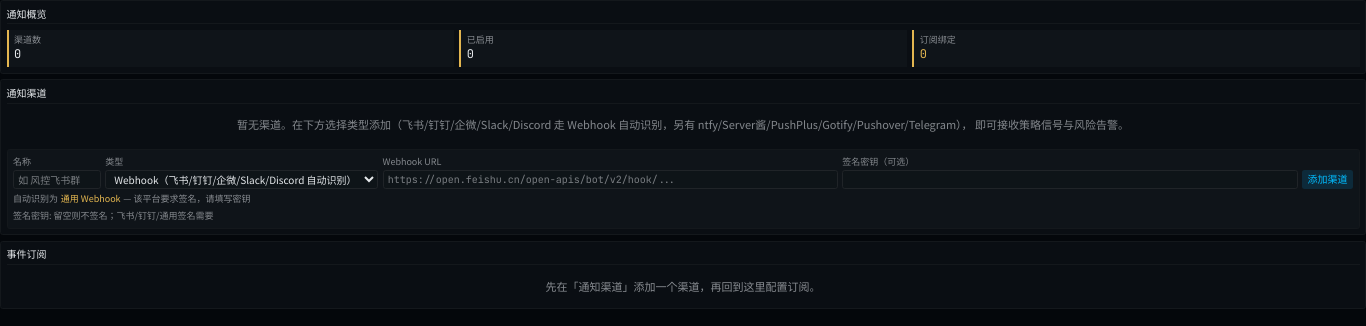
it: NotificationsPage › swaps the field group when the channel type changes
This screenshot has width=1366, height=326.
Expected: the text "Webhook URL" is shown, [382, 155, 441, 168]
Select "Pushover" in the dropdown at (242, 179), box [105, 170, 378, 189]
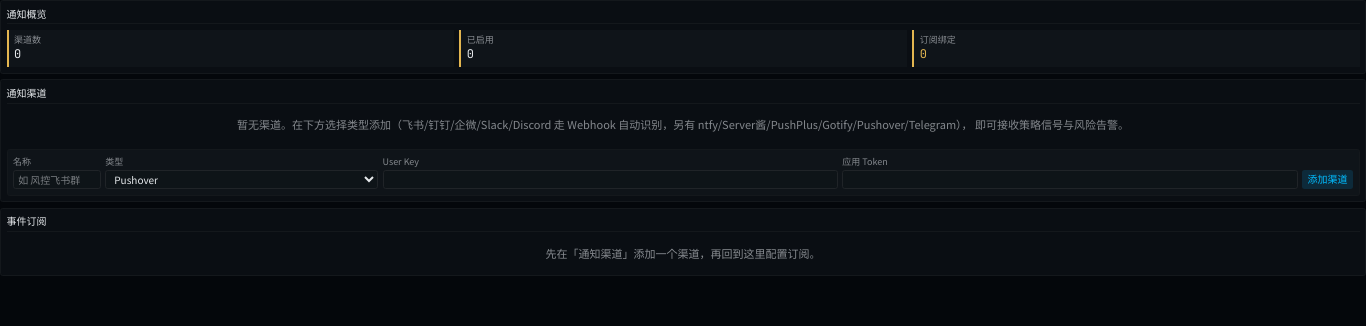
Expected: the text "Webhook URL" is gone
Expected: the text "User Key" is shown, [382, 155, 419, 168]
Expected: the text "应用 Token" is shown, [842, 155, 888, 168]
